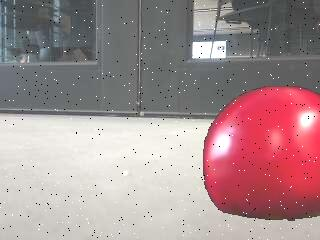Tomato: (202, 84, 320, 221)
